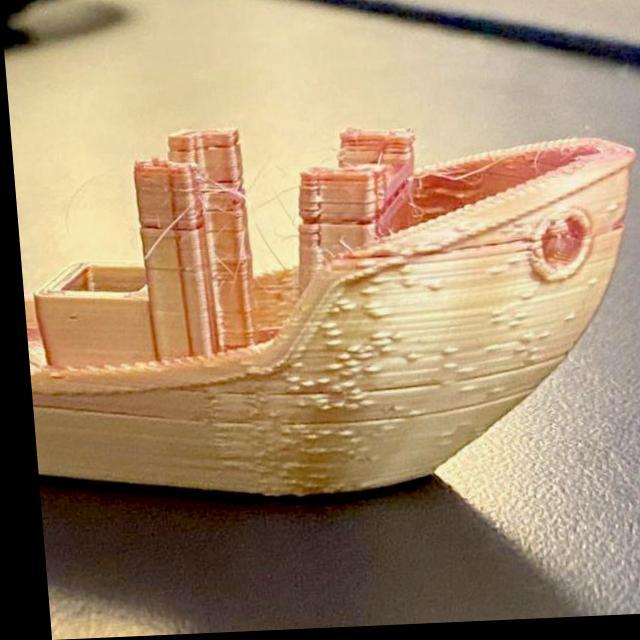stringing: (190, 182, 252, 203), (426, 172, 474, 190)
zits: (353, 304, 380, 323), (331, 297, 350, 320), (517, 349, 537, 366), (352, 258, 371, 275), (364, 276, 386, 290), (420, 283, 440, 298), (438, 361, 455, 378), (337, 402, 353, 420), (370, 346, 392, 359), (358, 368, 378, 382), (318, 362, 338, 376), (500, 258, 520, 272), (432, 349, 453, 362), (399, 352, 416, 368), (296, 381, 314, 396), (363, 332, 382, 346), (350, 399, 370, 412), (333, 430, 349, 446), (328, 353, 347, 366), (281, 374, 298, 388), (284, 360, 301, 374), (318, 329, 336, 342), (499, 322, 515, 336), (516, 336, 532, 350), (280, 382, 296, 396), (512, 294, 530, 306), (294, 434, 312, 446), (396, 280, 411, 294), (284, 422, 299, 436), (505, 315, 524, 326), (384, 334, 400, 347), (518, 359, 534, 372), (356, 288, 373, 300), (312, 323, 334, 332), (321, 340, 336, 353), (532, 334, 548, 346), (309, 407, 328, 417), (342, 344, 355, 358), (310, 379, 326, 390), (484, 310, 497, 322), (336, 383, 352, 392), (308, 399, 324, 408), (485, 319, 496, 331), (393, 270, 406, 280), (479, 346, 492, 356), (326, 404, 342, 412), (342, 391, 357, 399), (560, 318, 572, 328), (312, 432, 326, 438)
